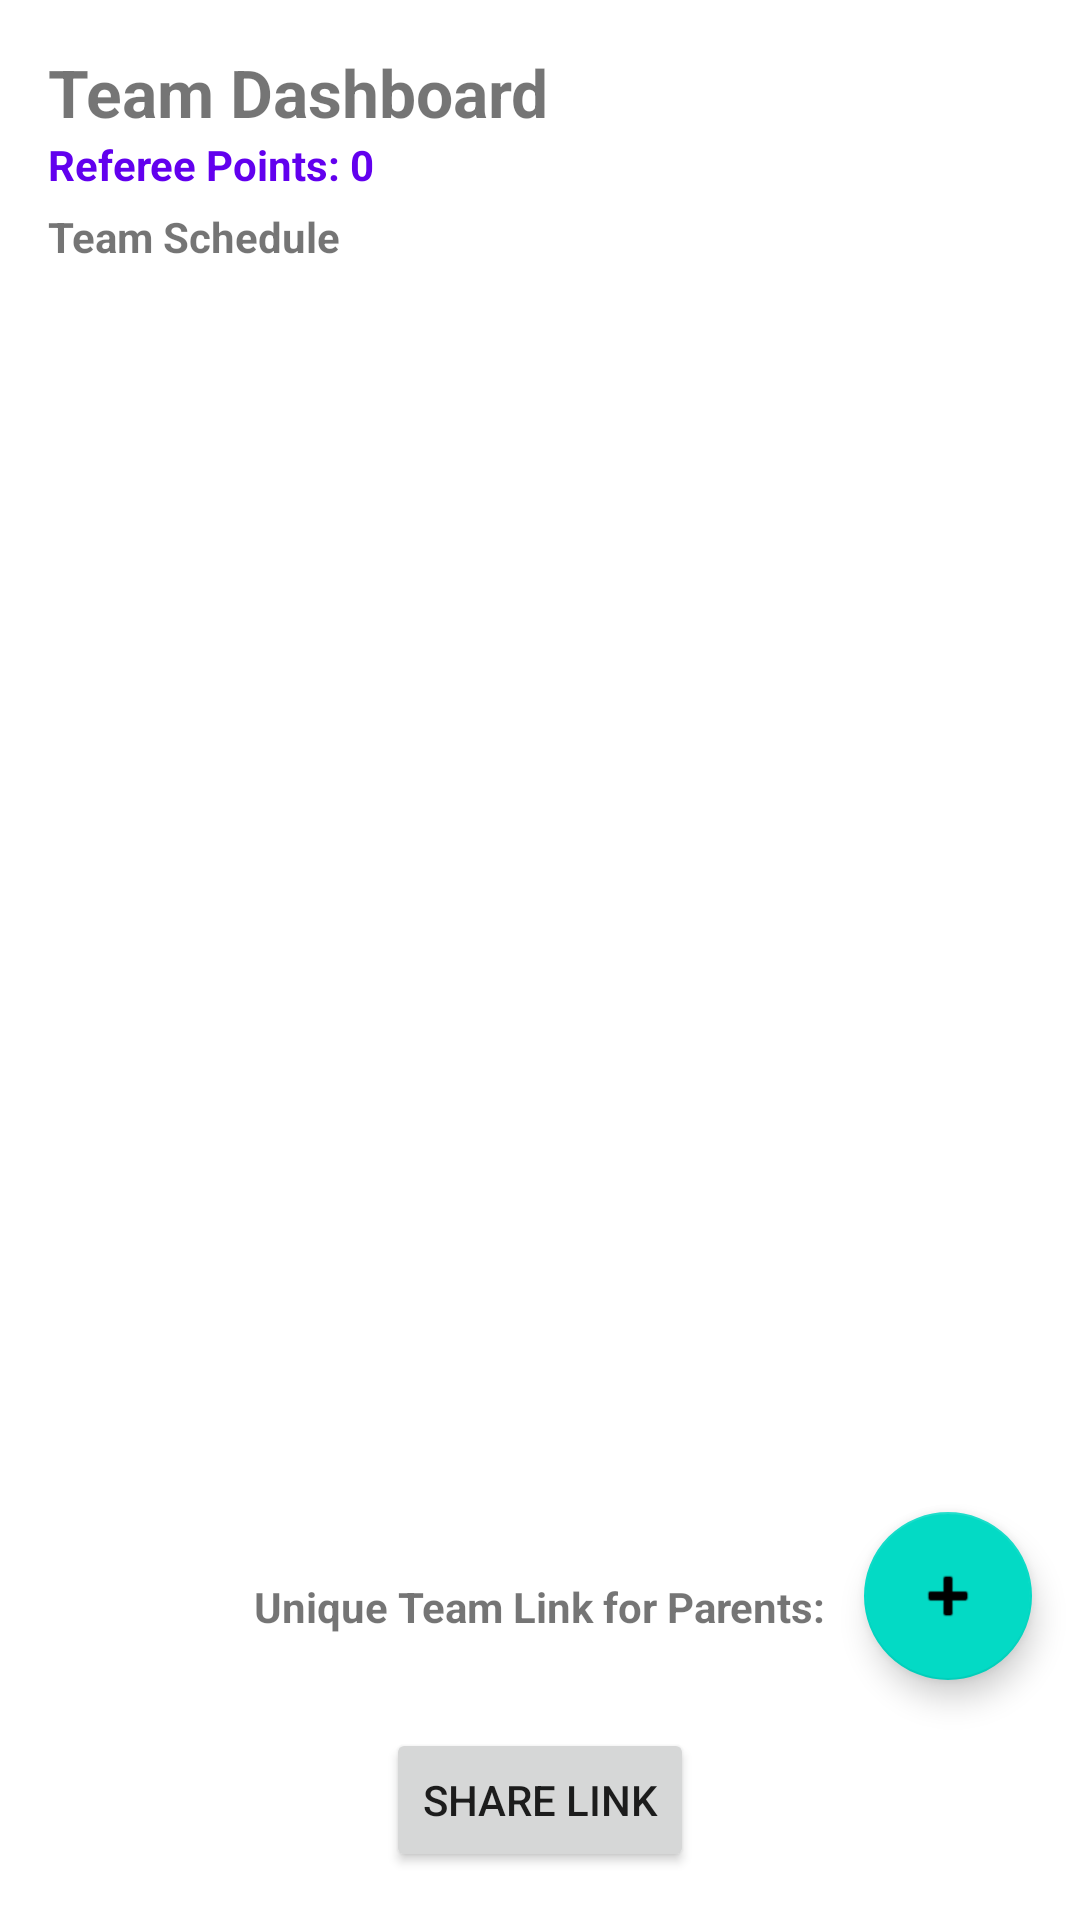

Point at icon controls on the screen. Image size 1080x1920, points as point (x, y).
add: point (948, 1596)
